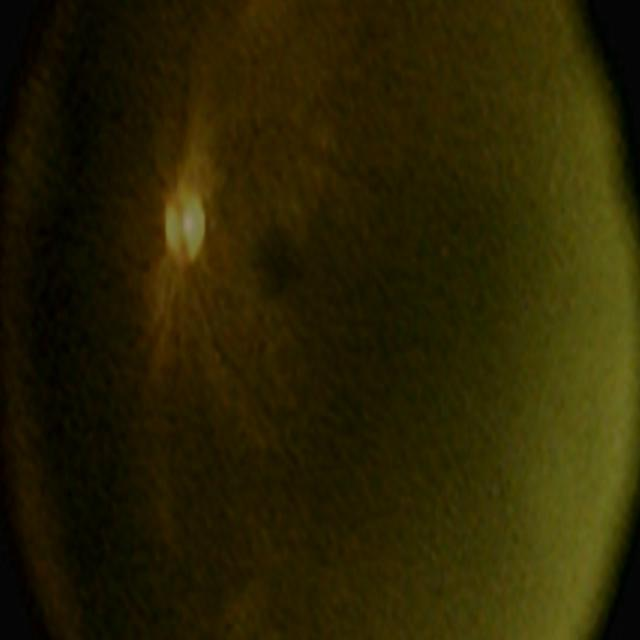optic-nerve: (137, 142, 225, 311)
